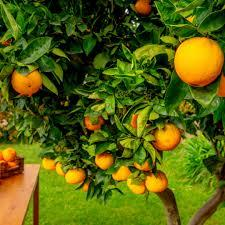orange: (172, 40, 225, 85), (11, 65, 47, 89), (144, 120, 171, 144), (93, 151, 117, 172), (148, 168, 169, 188), (62, 166, 84, 181)
